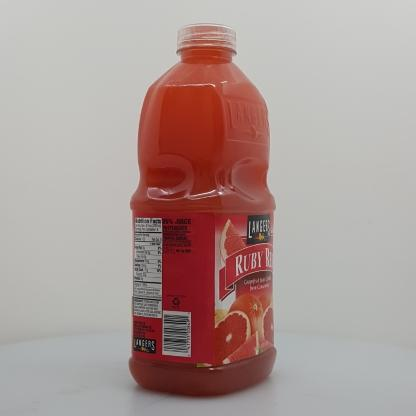---------------: (128, 23, 277, 397)
